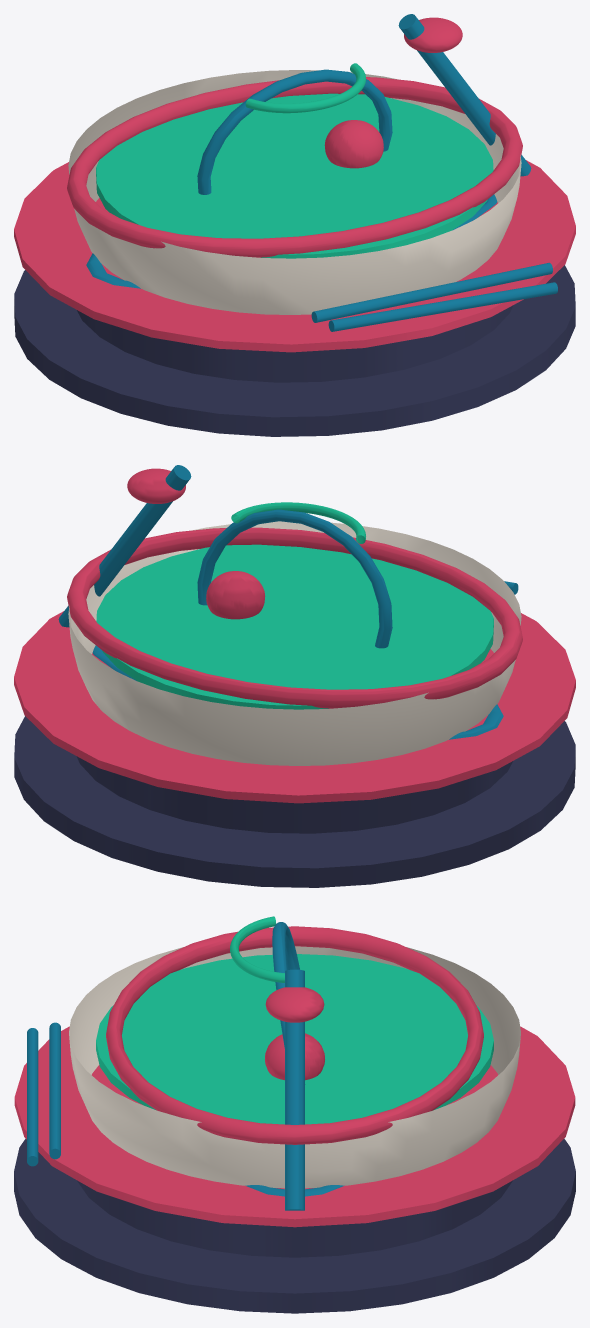
Rendered from 0316_揭秘食物图鉴_发酵面团.glb.
3 renders of one model, top to bottom at view 1: azimuth 30°, elevation 25°; view 2: azimuth 150°, elevation 25°; view 3: azimuth 270°, elevation 25°, orthographic. The views are drawn at different scales.
Parts seen in each view (by area): view 1: card_0316; view 2: card_0316; view 3: card_0316.
Part boxes in pixels (<box>): card_0316: <box>14,14,575,436</box>; card_0316: <box>14,465,575,887</box>; card_0316: <box>14,916,575,1313</box>.
Bounding box in the file's own units: 1.77 × 1 × 1.72.
